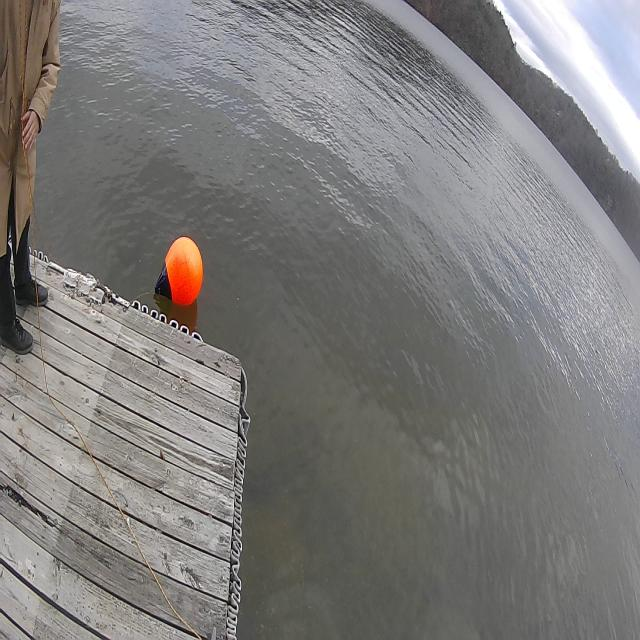Buoy: (154, 230, 204, 312)
